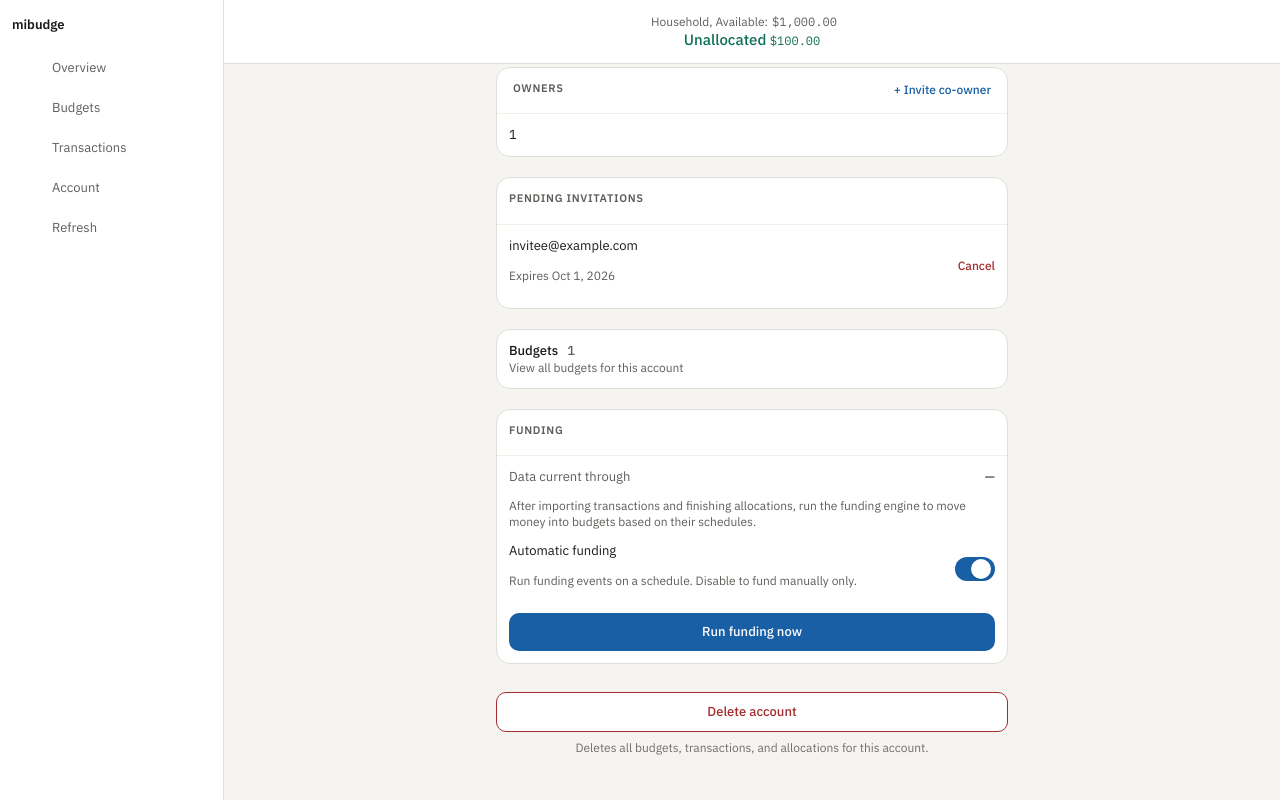
Test: bank-account pages › shows why deleting the account failed
The image size is (1280, 800).
(page scrolled)
What coordinates should you click on to do the following:
click the button "Delete account"
I would click on:
 (752, 712)
Its box is top-left (496, 692), bottom-right (1008, 732).
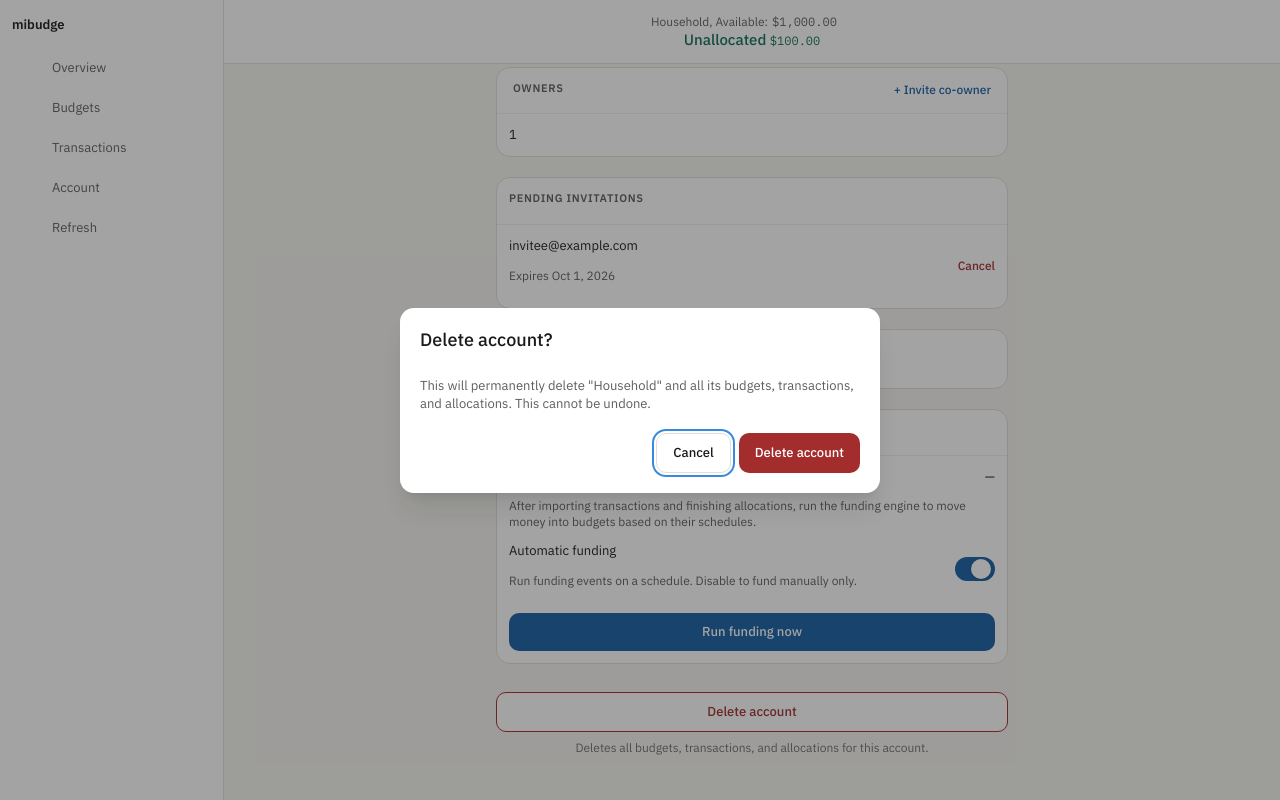
What coordinates should you click on to do the following:
click the button "Delete account"
I would click on:
 (799, 452)
Its box is top-left (739, 432), bottom-right (860, 472).
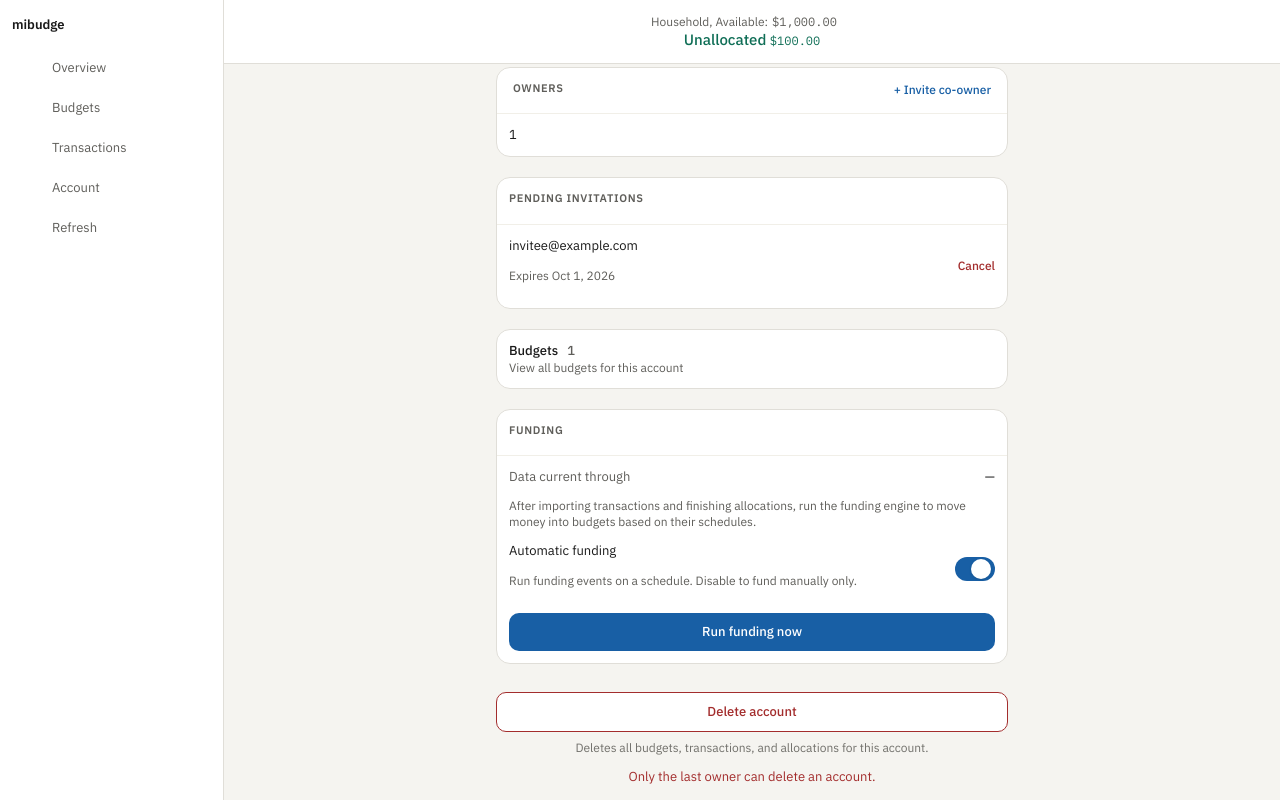
Expected: the text "Only the last owner can delete an account." is shown, top-left (628, 768), bottom-right (876, 785)
